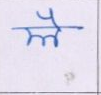au_matra: (41, 10, 64, 44)
